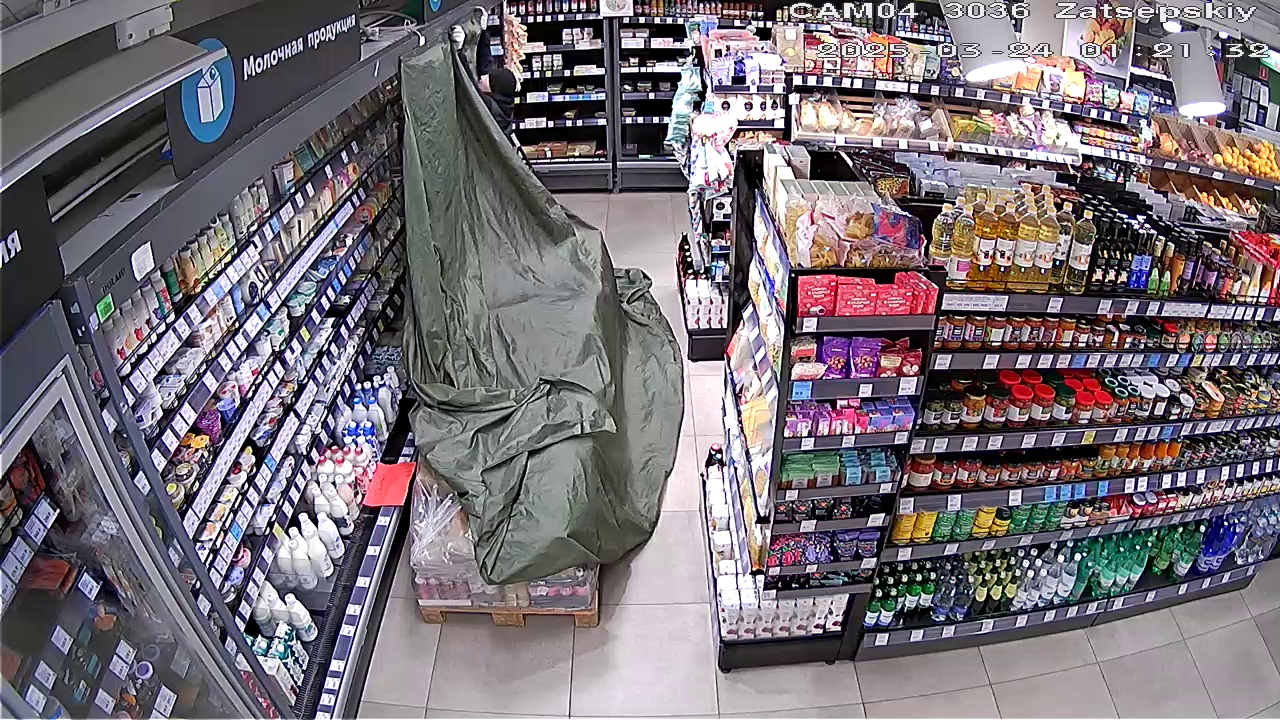Human: (444, 11, 524, 129)
dome: (391, 36, 679, 580)
